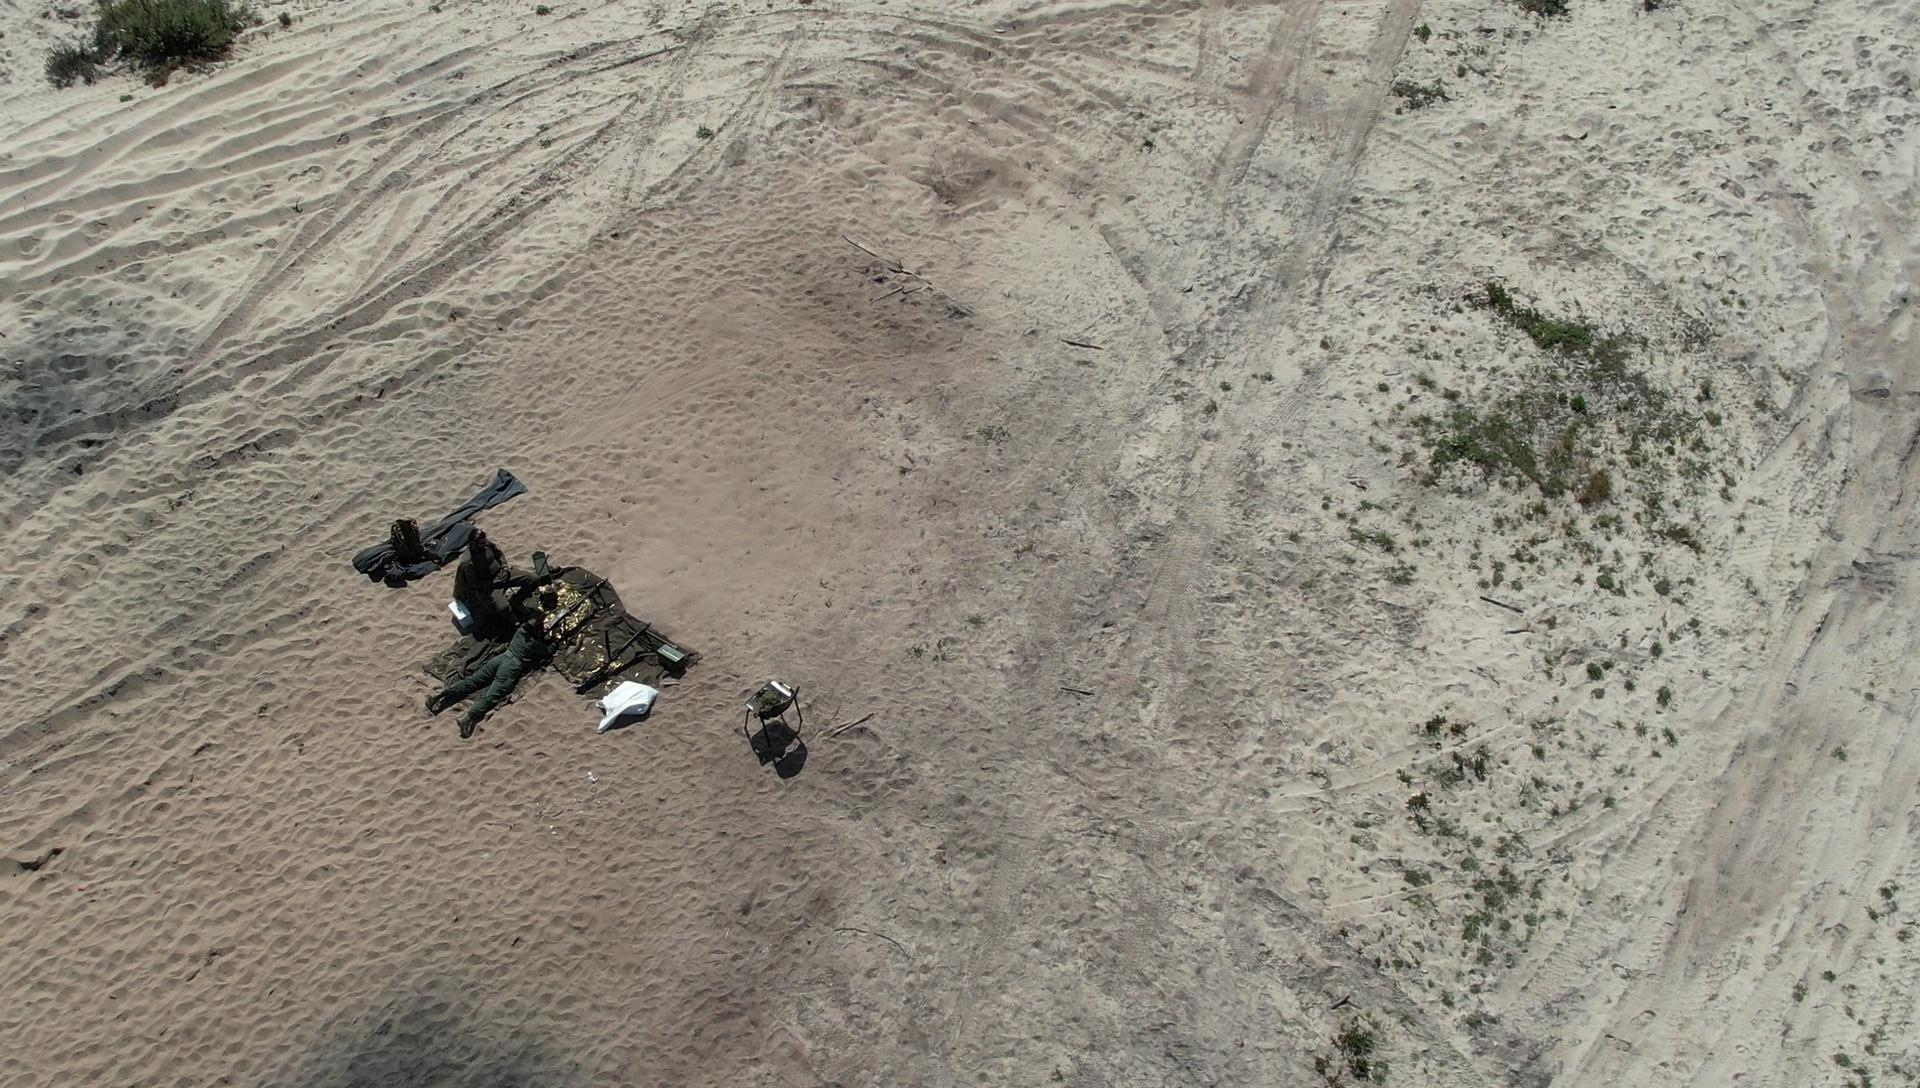Soldier: (436, 595, 567, 724), (451, 539, 527, 655)
